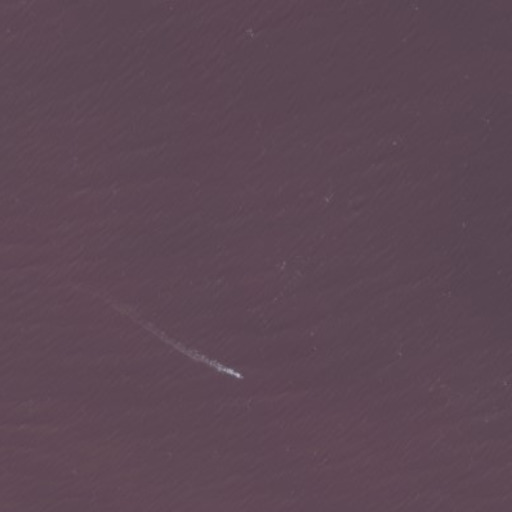ship: (232, 368, 243, 381)
